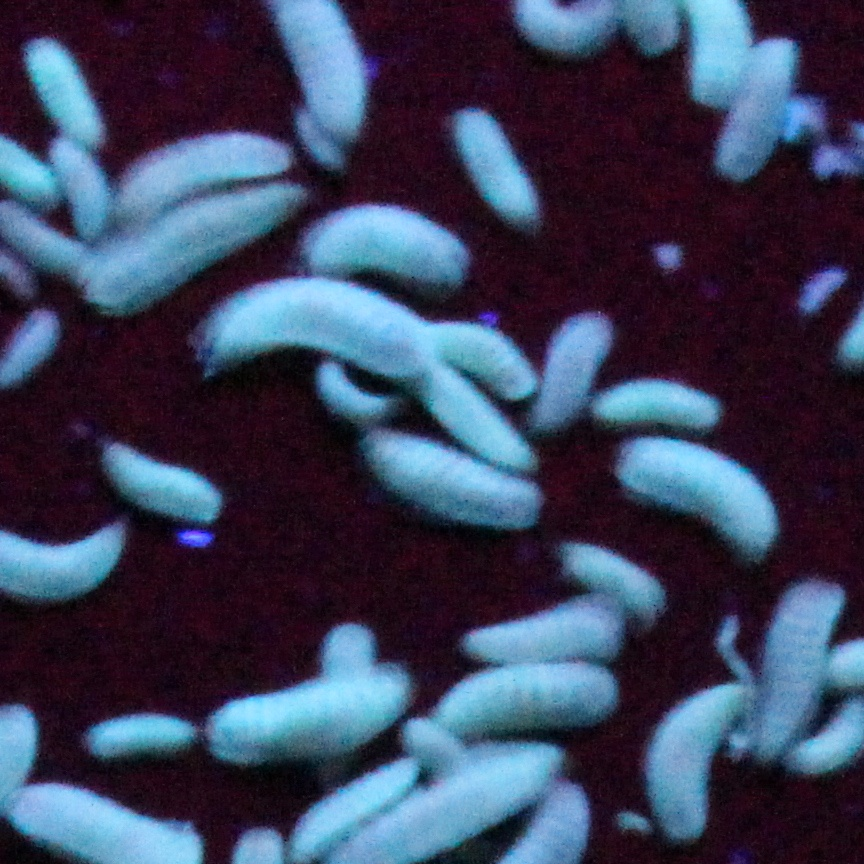larve: (180, 271, 451, 384), (612, 422, 797, 568), (357, 422, 549, 545), (193, 670, 419, 765), (107, 120, 298, 222), (436, 655, 625, 755), (640, 670, 743, 850), (702, 35, 811, 186), (440, 99, 554, 236), (91, 430, 251, 522), (449, 586, 629, 665), (756, 576, 830, 768), (14, 30, 113, 152), (525, 315, 614, 442), (555, 527, 672, 621), (417, 375, 533, 462), (589, 375, 729, 437), (433, 321, 536, 392), (80, 708, 211, 762), (47, 141, 111, 232)
